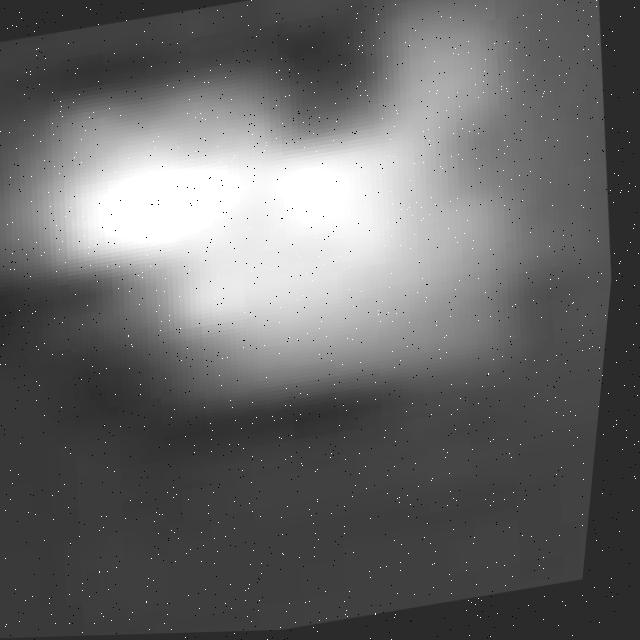person: (1, 9, 629, 451)
